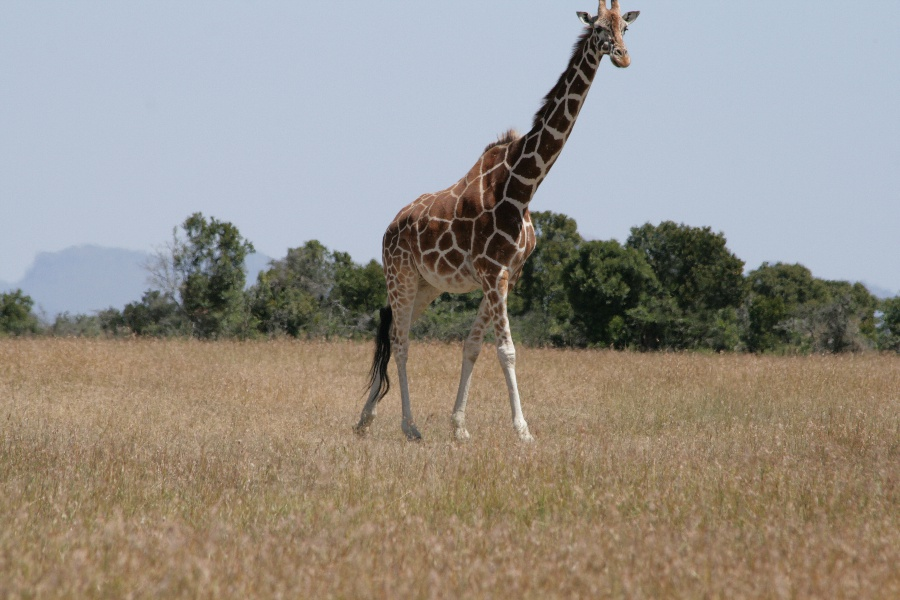giraffe: (346, 0, 641, 444)
